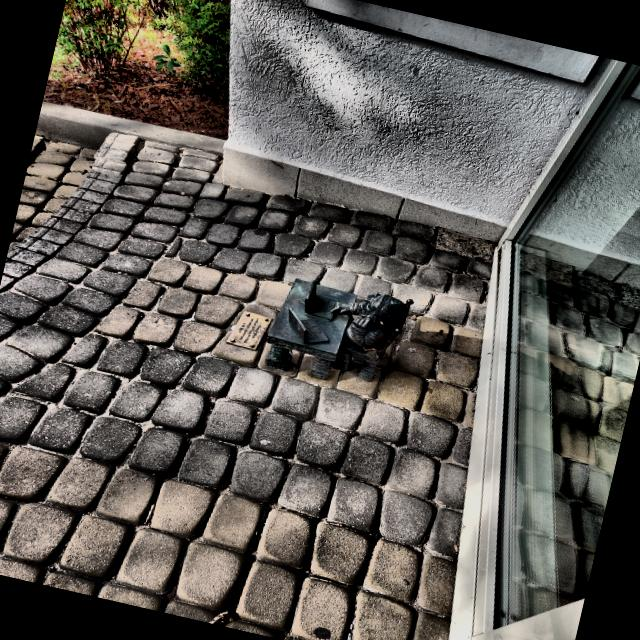WIZek: (264, 279, 413, 381)
